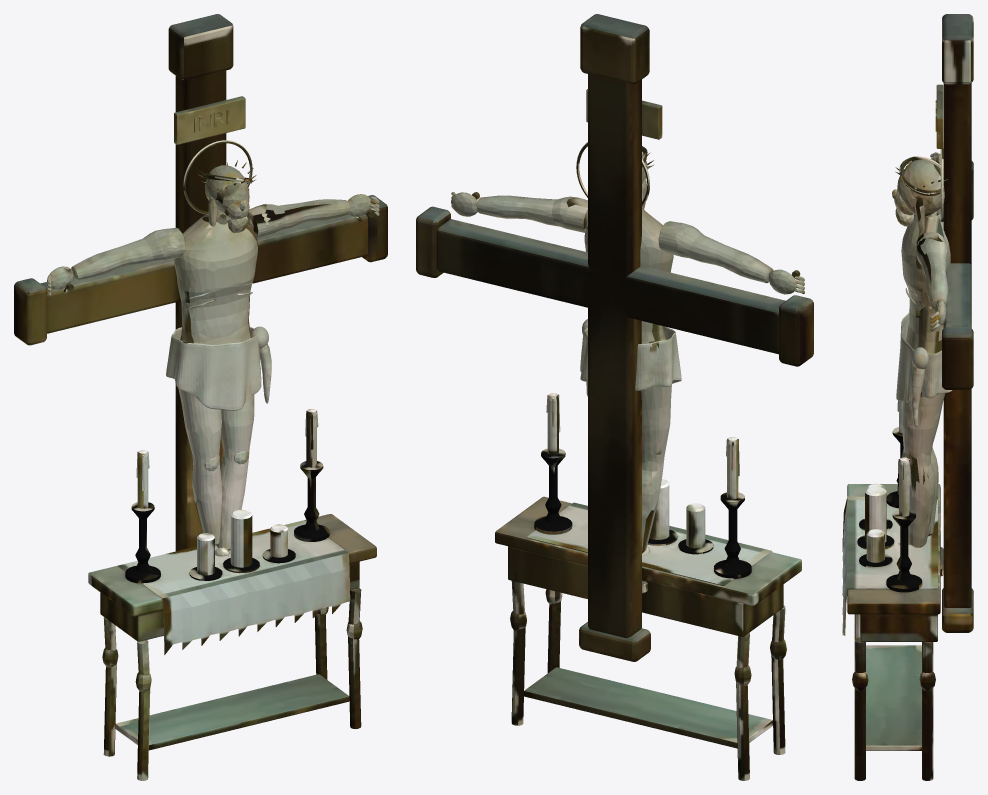
Rendered from faith_gallery.glb.
The picture shows the model from 3 angles, left to right: view 1: azimuth 30°, elevation 25°; view 2: azimuth 150°, elevation 25°; view 3: azimuth 270°, elevation 25°; orthographic projection. The views are drawn at different scales.
Parts seen in each view (by area): view 1: CHUNK_faith_gallery; view 2: CHUNK_faith_gallery; view 3: CHUNK_faith_gallery.
Part boxes in pixels (x1=…): CHUNK_faith_gallery: x1=14, y1=14, x2=387, y2=780; CHUNK_faith_gallery: x1=416, y1=14, x2=813, y2=780; CHUNK_faith_gallery: x1=842, y1=14, x2=973, y2=780.
Bounding box in the file's own units: 1.63 × 2.99 × 0.5062.
1 material, 1 textured.
